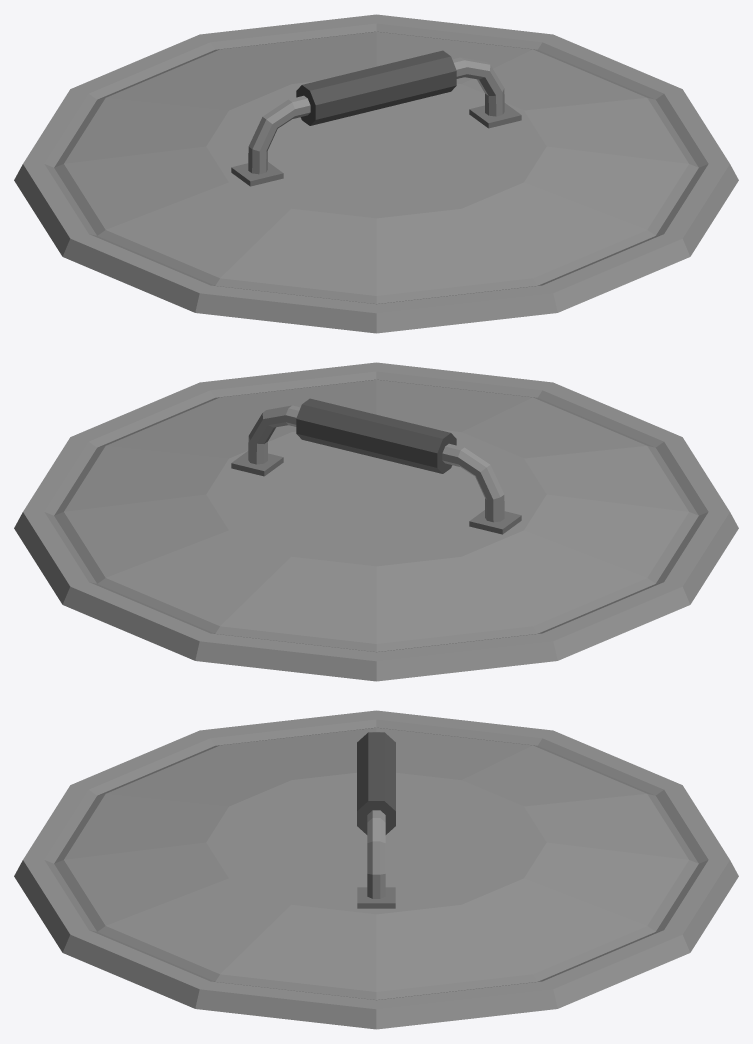
The model's file is PanPart_02.fbx.
3 views of the same model, one above another, from view 1: azimuth 30°, elevation 25°; view 2: azimuth 150°, elevation 25°; view 3: azimuth 270°, elevation 25° (orthographic).
Visible parts, largest first — view 1: PanPart_02; view 2: PanPart_02; view 3: PanPart_02.
Boxes of the visible parts, x1,y1,x2,y2 form: PanPart_02: (14,14,738,333); PanPart_02: (14,362,738,681); PanPart_02: (14,710,738,1029).
Bounding box in the file's own units: 18.36 × 3.06 × 18.36.
